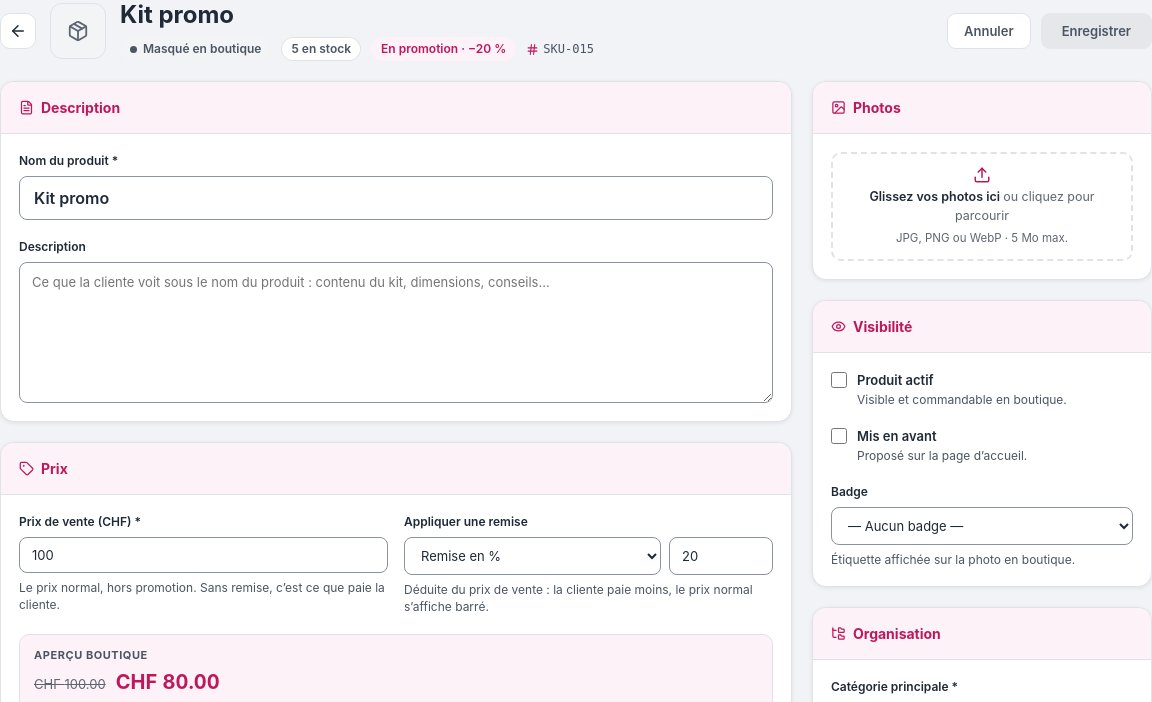
Test: ProductForm — modifications hors formulaire › une remise modifiée seule est signalée et demande confirmation en partant
Expected: the button "Enregistrer" is disabled, x1=1041 y1=12 x2=1151 y2=48
Step 1. Replace the text in the number field named "Valeur de la réduction" with "30" → coordinates (721, 556), box x1=669 y1=537 x2=773 y2=575
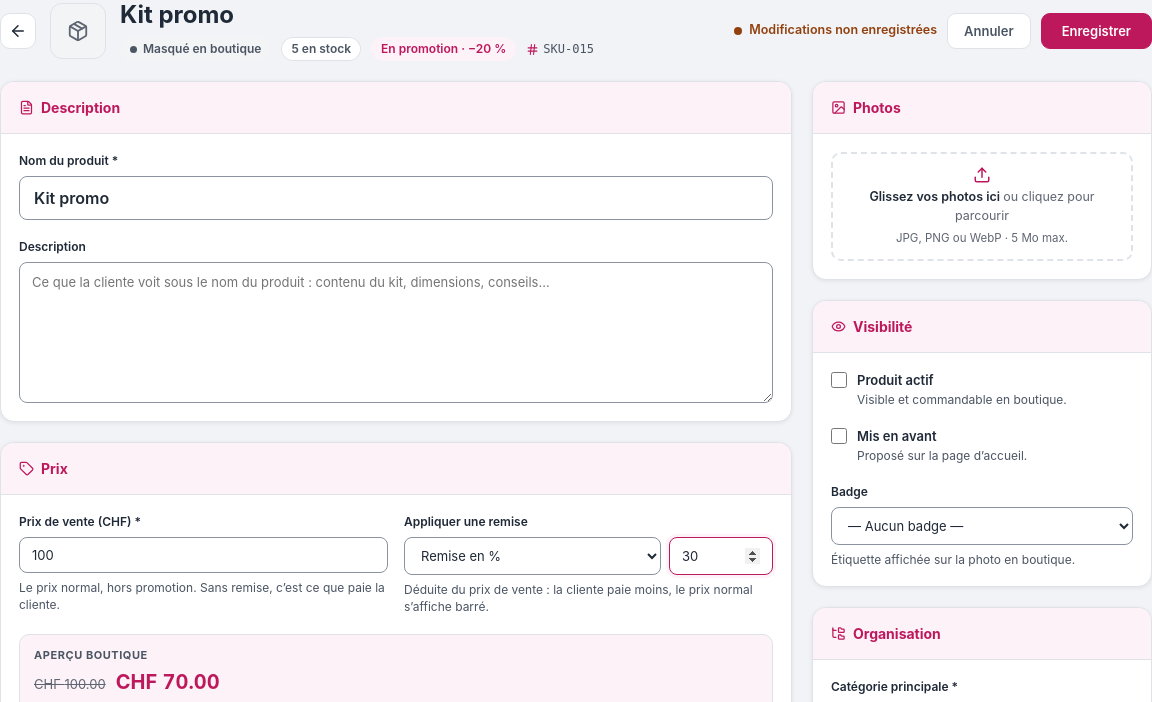
Expected: the text "Modifications non enregistrées" is shown, x1=734 y1=21 x2=937 y2=40
Expected: the button "Enregistrer" is enabled, x1=1041 y1=12 x2=1151 y2=48
Step 2. Click the button "Annuler" → coordinates (989, 30), box x1=947 y1=12 x2=1031 y2=48
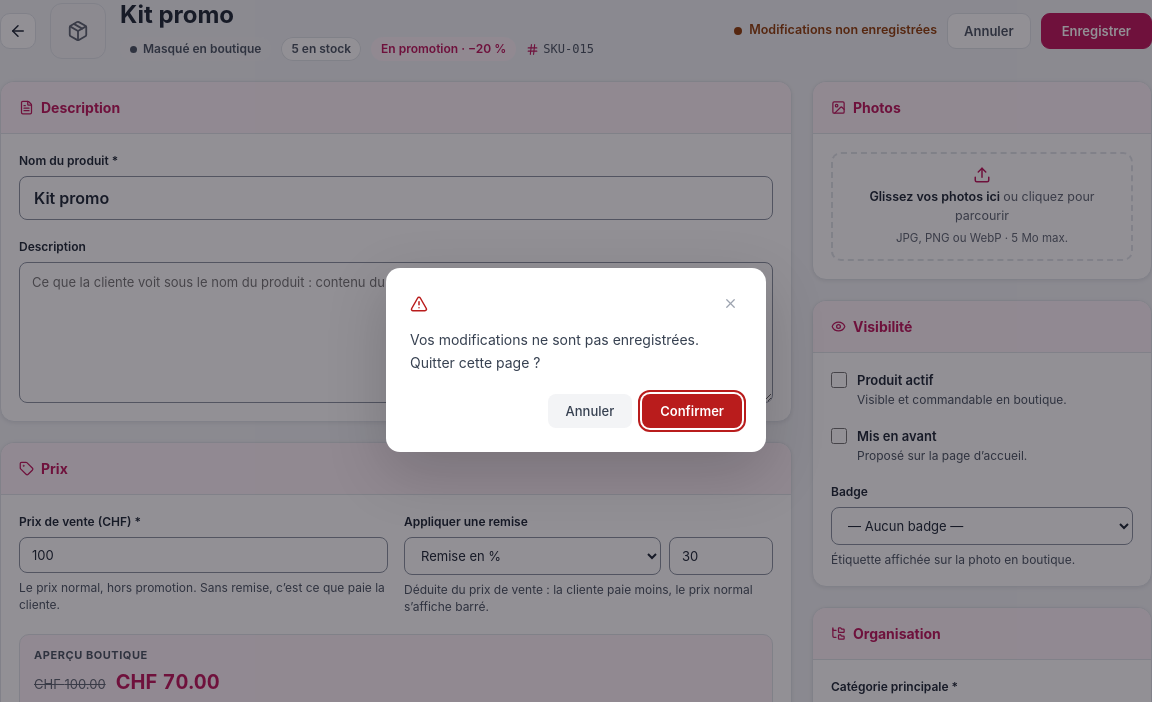
Expected: the text "Vos modifications ne sont pas enregistrées" is shown, x1=410 y1=331 x2=699 y2=370
